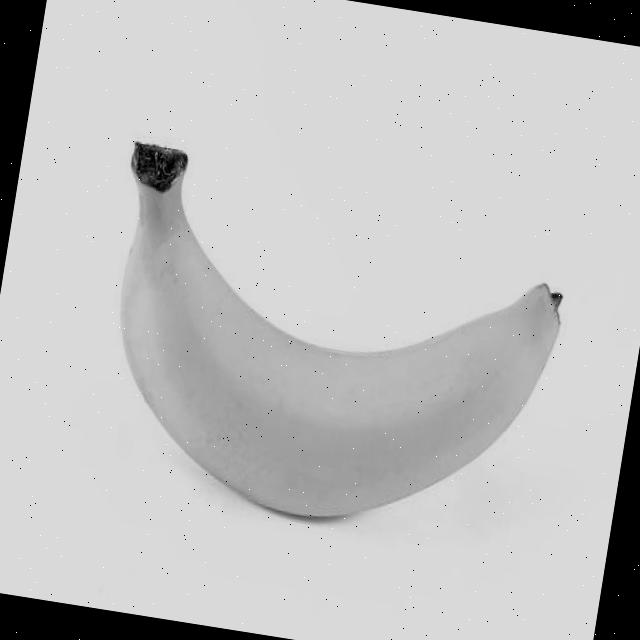Ripe: (84, 136, 586, 558)
